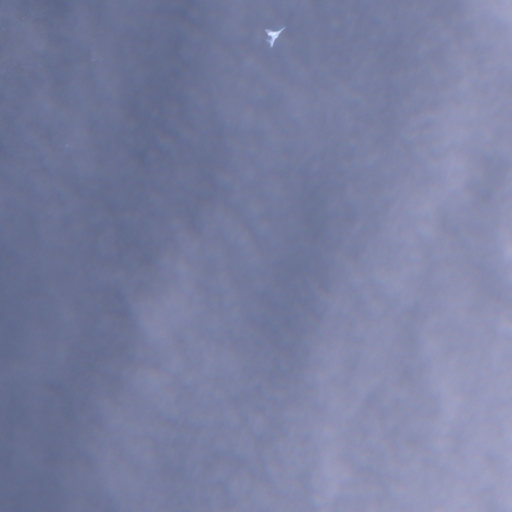Iceberg: (266, 26, 285, 46)
